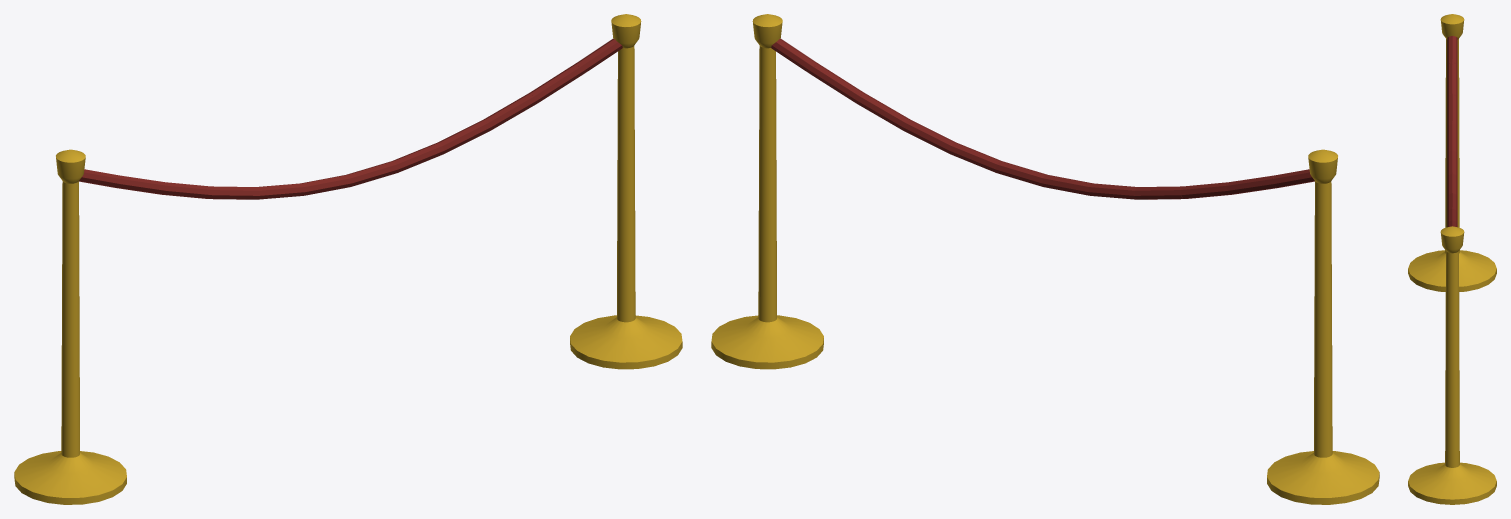
Rendered from prop_stanchion_velvet.glb.
3 views of the same model, side by side, from view 1: azimuth 30°, elevation 25°; view 2: azimuth 150°, elevation 25°; view 3: azimuth 270°, elevation 25° (orthographic). The views are drawn at different scales.
Visible parts, largest first — view 1: Stanchions; view 2: Stanchions; view 3: Stanchions.
Boxes of the visible parts, box(x1,y1,x2,y2) form: Stanchions: box(14, 14, 682, 504); Stanchions: box(711, 14, 1379, 504); Stanchions: box(1408, 14, 1496, 504).
Size of what is drawn, in the model's own units: 2 by 0.97 by 0.3.
